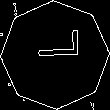L_W: (29, 38, 81, 72)
